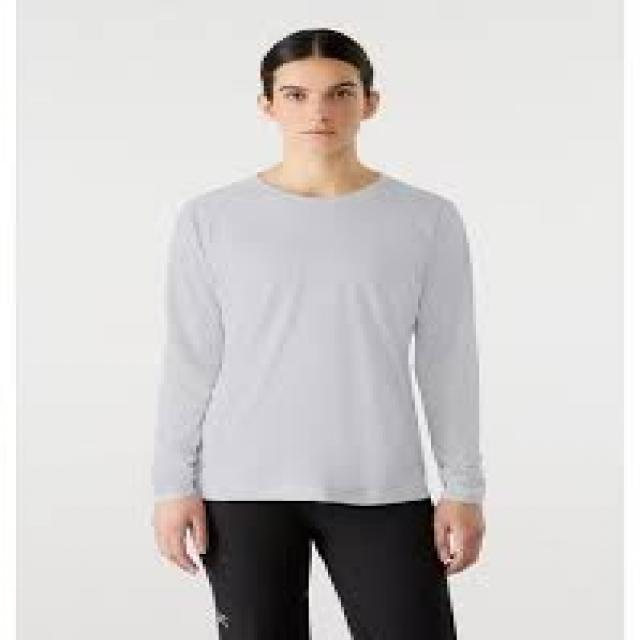plain: (79, 180, 546, 523)
